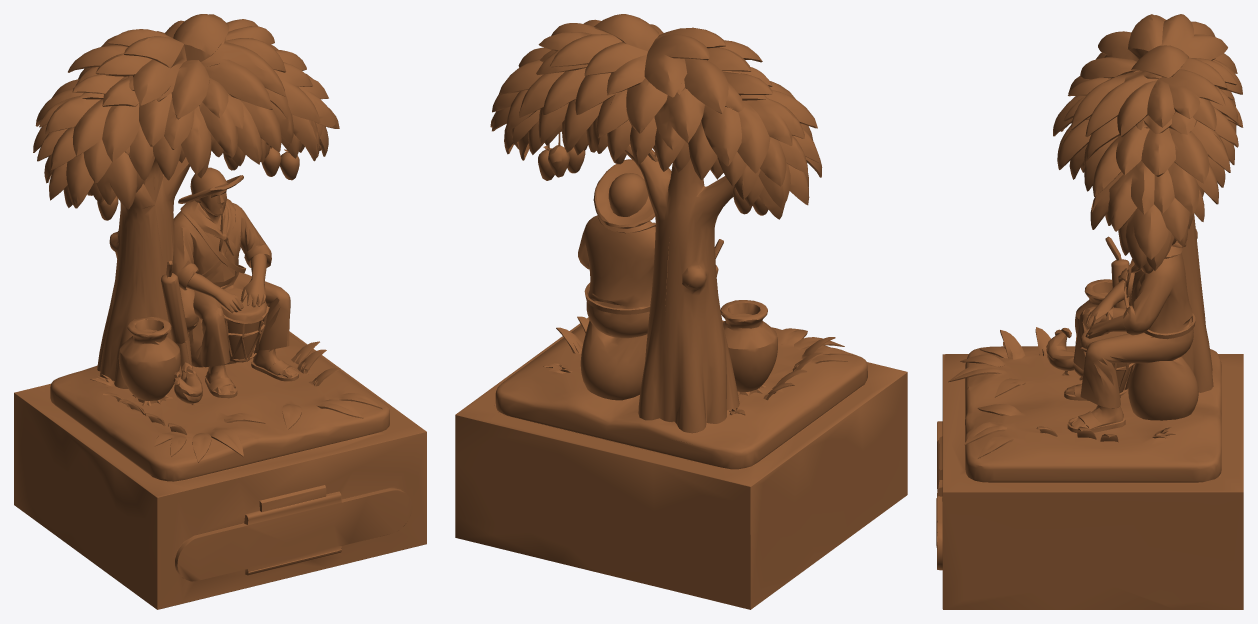
Rendered from juglar-palo-de-mango.glb.
3 views of the same model, side by side, from view 1: azimuth 30°, elevation 25°; view 2: azimuth 150°, elevation 25°; view 3: azimuth 270°, elevation 25° (orthographic). The views are drawn at different scales.
Visible parts, largest first — view 1: node_0; view 2: node_0; view 3: node_0.
Boxes of the visible parts, box(x1,y1,x2,y2) form: node_0: box(14, 14, 426, 609); node_0: box(455, 14, 907, 609); node_0: box(936, 14, 1243, 609).
Size of the model in its own units: 0.6018 by 0.931 by 0.5162.
